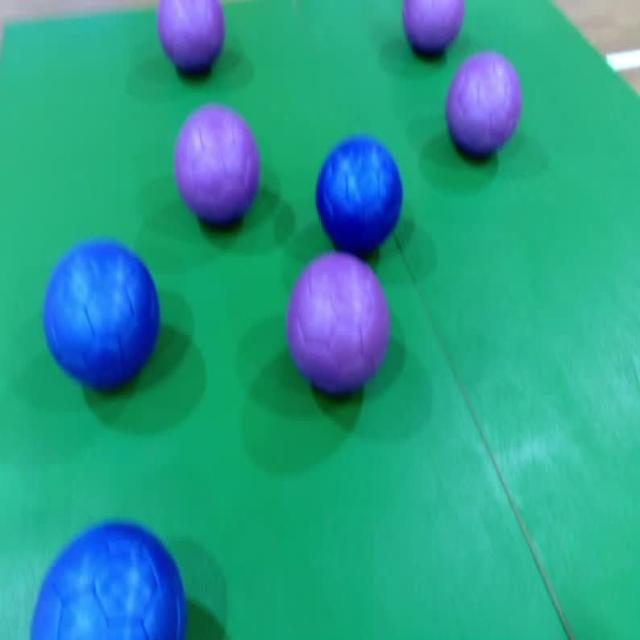blue_ball: (29, 515, 189, 640), (38, 241, 162, 394), (313, 137, 404, 254)
purple_ball: (286, 258, 391, 398), (171, 110, 265, 226), (445, 49, 523, 162), (156, 0, 229, 80), (402, 0, 467, 53)
